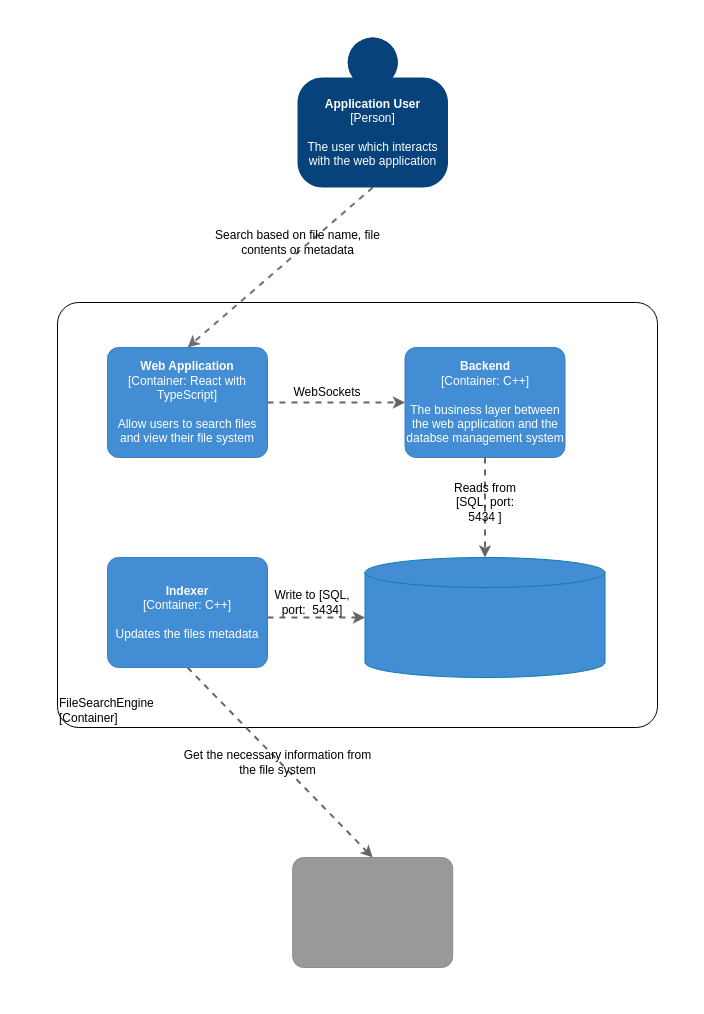
The diagram is 704 pixels wide and 1014 high, and some of its shapes have lost their labels. The centre of each missing label's shape, as x and y in pixels:
Local File System [Software System] OS File System: the point at 372,912
Relational Database [Container: PostgreSQL] Stores files metadata: the point at 484,617
